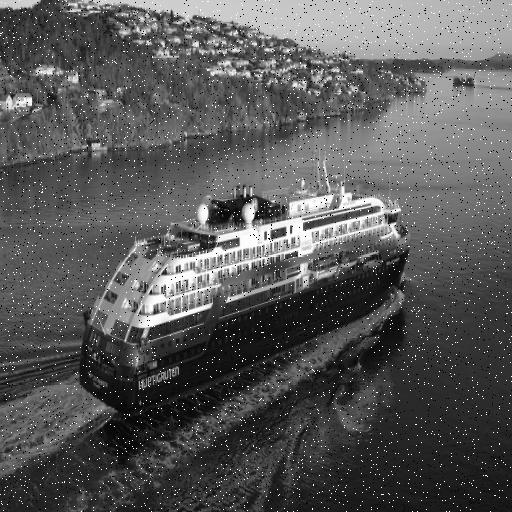cruises: (77, 156, 414, 421)
